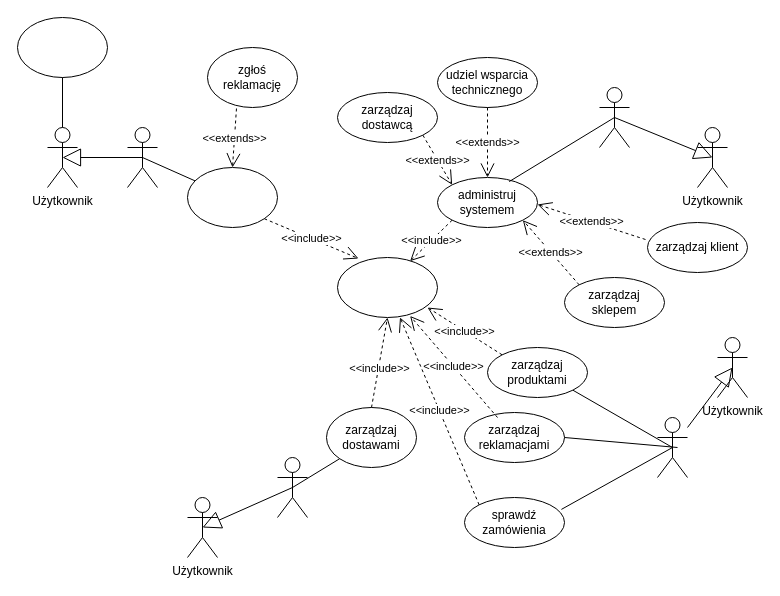
Some shapes in this 780 by 596 pixel diagram are drawn without their labels. Here are the shapes that lost their labels. From the top down, the centre of each, then its label:
At pixel 62 47: "zarządzaj kontem użytkownika".
At pixel 614 117: "Administrator".
At pixel 142 157: "Klient".
At pixel 232 197: "zarządzaj koszykiem".
At pixel 387 287: "loguj się".
At pixel 672 447: "Koordynator partnerski".
At pixel 292 487: "Dostawca".
